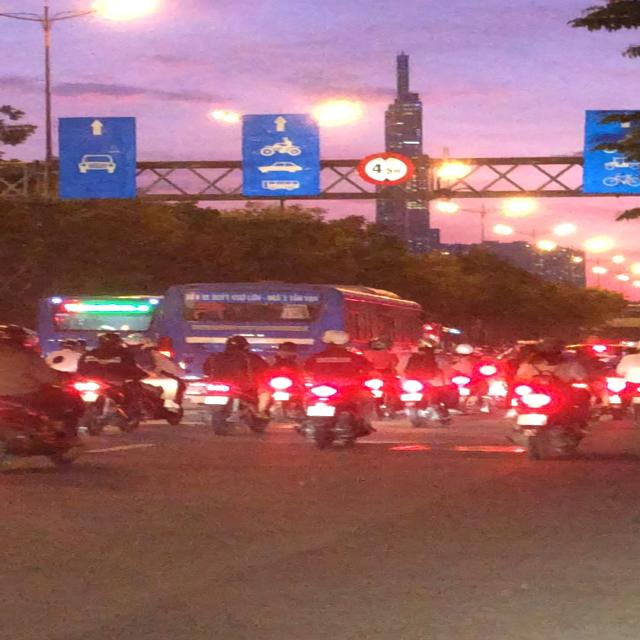Bien bao han che chieu cao: (351, 144, 414, 190)
